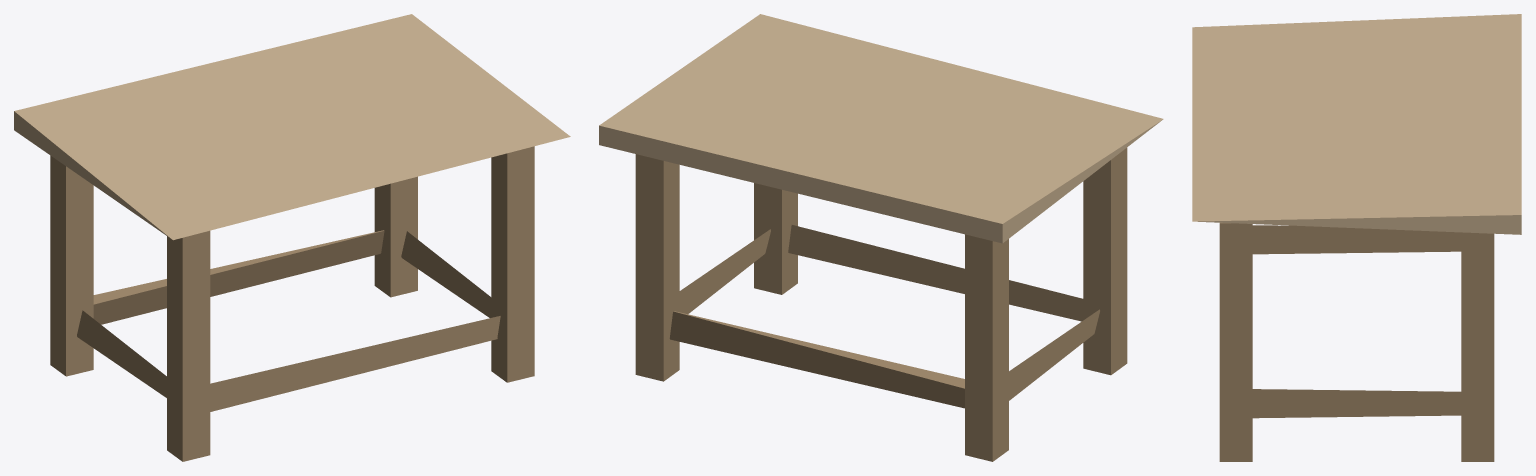
Rendered from 18-Casas_mesa_madera.glb.
3 views of the same model, side by side, from view 1: azimuth 30°, elevation 25°; view 2: azimuth 150°, elevation 25°; view 3: azimuth 270°, elevation 25° (orthographic). The views are drawn at different scales.
Visible parts, largest first — view 1: SM_Mesa_M_Mueble_Madera_Clara, SM_Mesa_M_Mueble_Madera_Oscura; view 2: SM_Mesa_M_Mueble_Madera_Clara, SM_Mesa_M_Mueble_Madera_Oscura; view 3: SM_Mesa_M_Mueble_Madera_Clara, SM_Mesa_M_Mueble_Madera_Oscura.
Part boxes in pixels (bbox=[...]): SM_Mesa_M_Mueble_Madera_Clara: bbox=[14, 14, 570, 240]; SM_Mesa_M_Mueble_Madera_Oscura: bbox=[50, 146, 534, 461]; SM_Mesa_M_Mueble_Madera_Clara: bbox=[599, 14, 1163, 243]; SM_Mesa_M_Mueble_Madera_Oscura: bbox=[635, 147, 1127, 461]; SM_Mesa_M_Mueble_Madera_Clara: bbox=[1192, 14, 1521, 234]; SM_Mesa_M_Mueble_Madera_Oscura: bbox=[1219, 222, 1494, 461].
Size of the model in its own units: 1.3 by 0.78 by 0.9.
